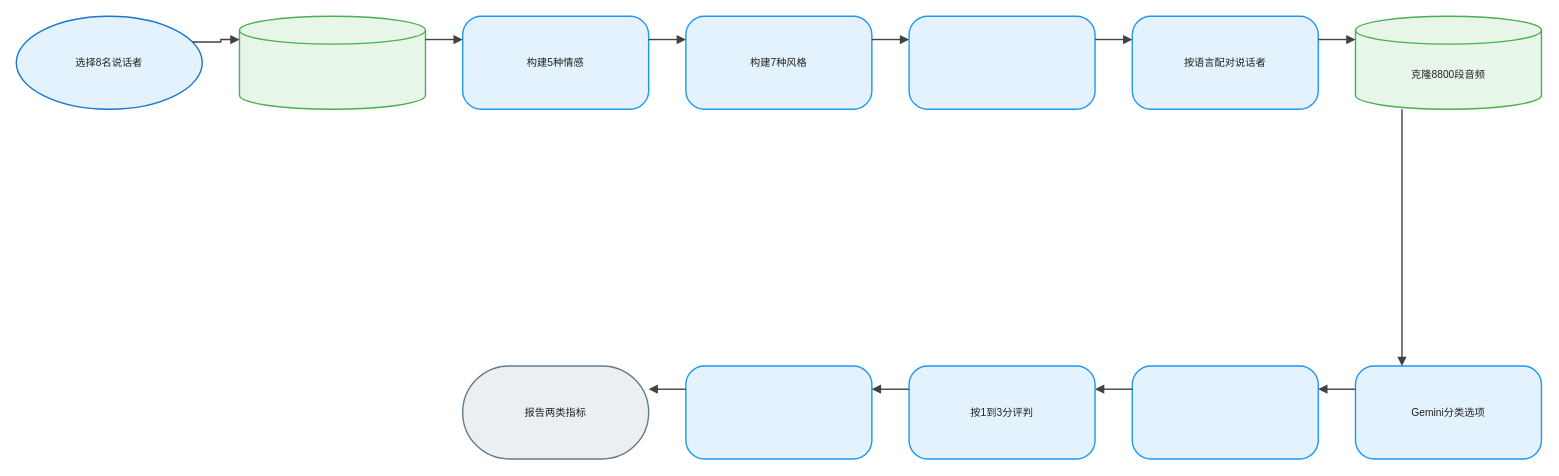
This 1559x476 diagram has some shape labels left out. Here are the shapes that lost their labels. From the top down, the box of each, then its label:
(238, 15, 426, 110): 三个语音来源
(908, 15, 1095, 110): 构建10种副语言
(685, 365, 872, 459): 检查目标遗漏
(1131, 365, 1319, 459): 平均分类准确率
